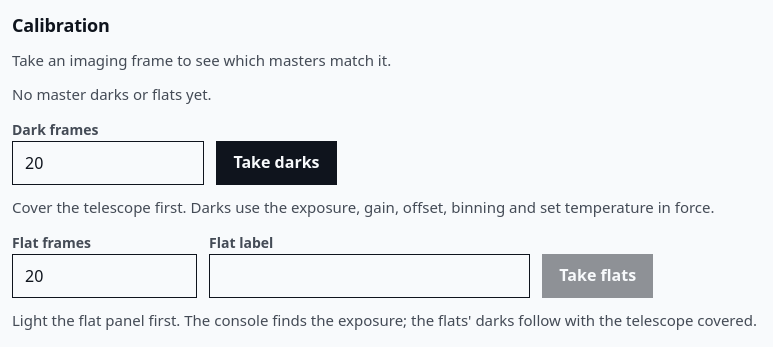
US9-S3: taking darks and flats › posts the flat count and label and calls onChange
This screenshot has width=773, height=347.
Later steps or results of the test are not shown.
Replace the text in the number field labelled "Flat frames" with "4". click: (105,276)
box: [12,254,197,298]
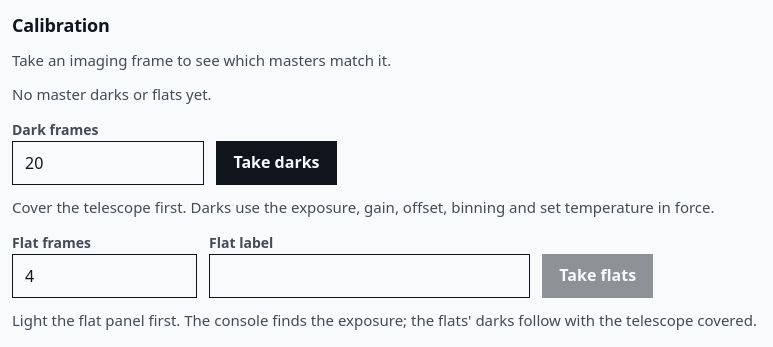
Type "desk" into the field labelled "Flat label". click: (370,276)
box: [209,254,530,298]
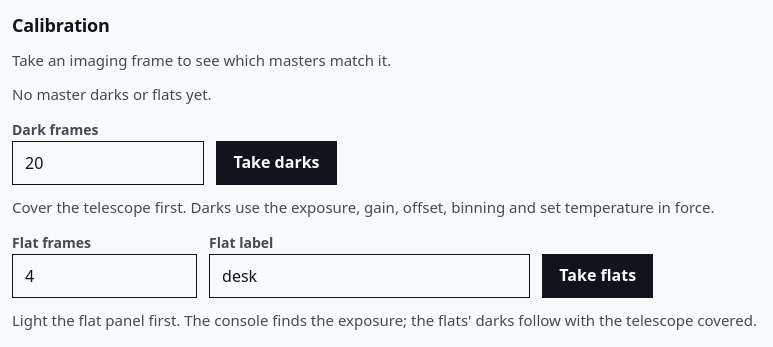
Check: the button "Take flats" is enabled, box [542,254,653,298]
